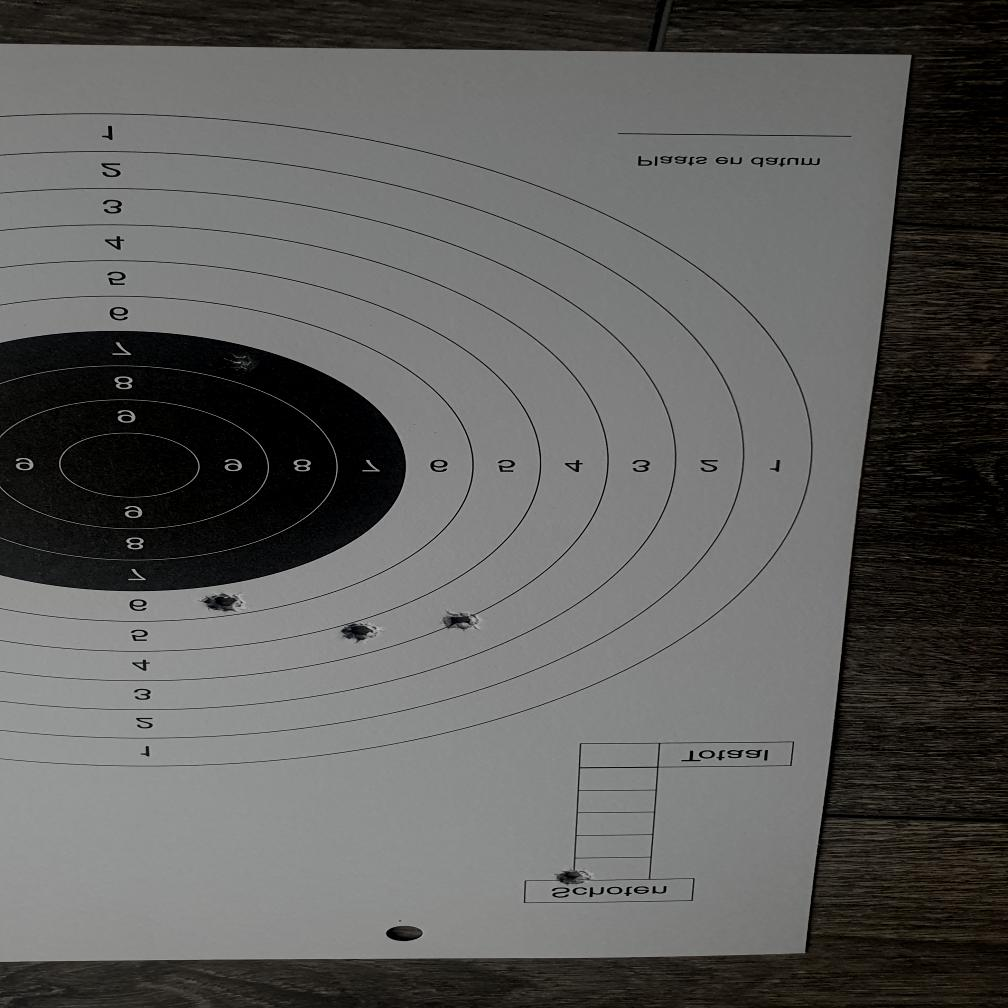0: (553, 868, 594, 886)
4: (337, 622, 386, 645), (439, 609, 484, 631)
6: (194, 591, 251, 615)
7: (203, 352, 260, 376)
Target: (0, 109, 821, 769)
black_contour: (0, 331, 407, 592)
